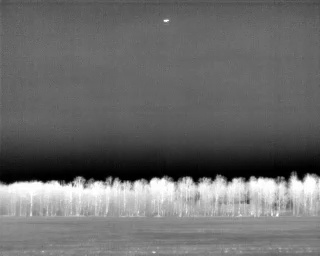DRONE: (161, 16, 172, 26)
